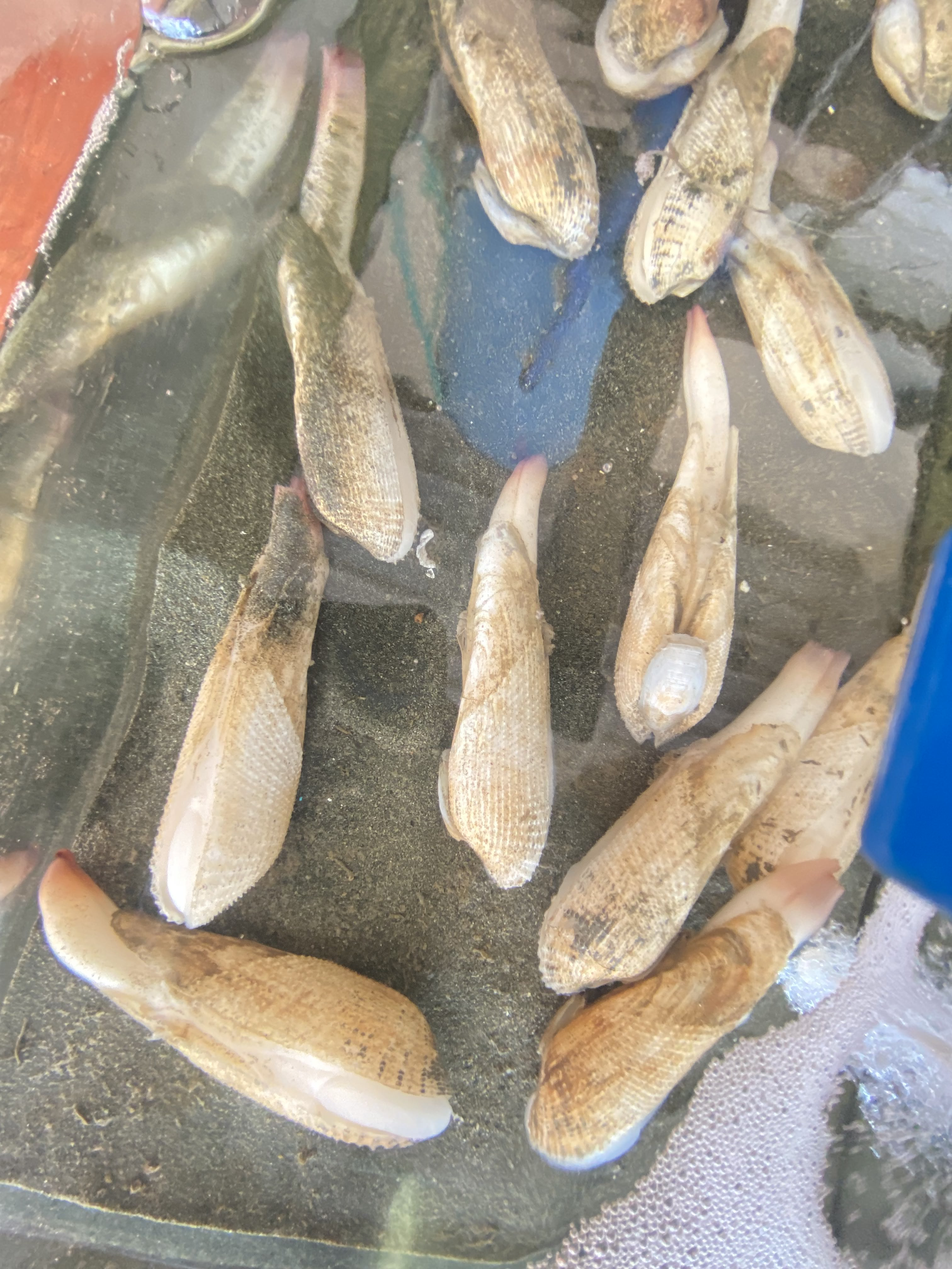Healthy: (40, 860, 450, 1148), (539, 644, 844, 992), (527, 859, 842, 1170), (150, 477, 329, 928), (276, 46, 419, 562), (615, 306, 739, 743), (728, 141, 895, 456), (438, 455, 554, 887)
